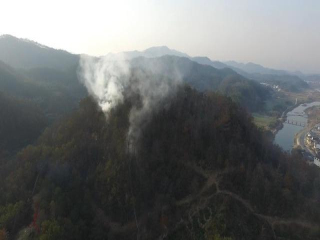smoke: (75, 52, 191, 133)
